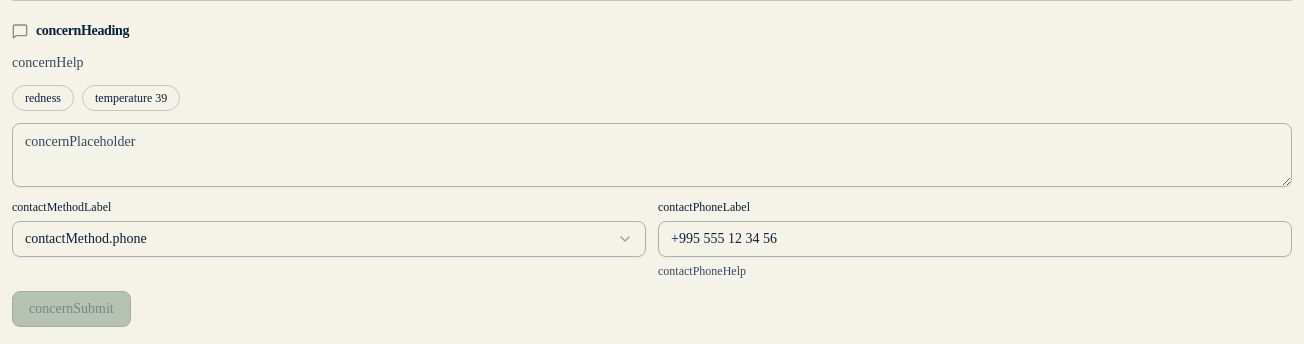
ConcernReportSection › lets a tapped sign be untapped
Click the button "redness": [43, 98] box x1=12 y1=85 x2=74 y2=111
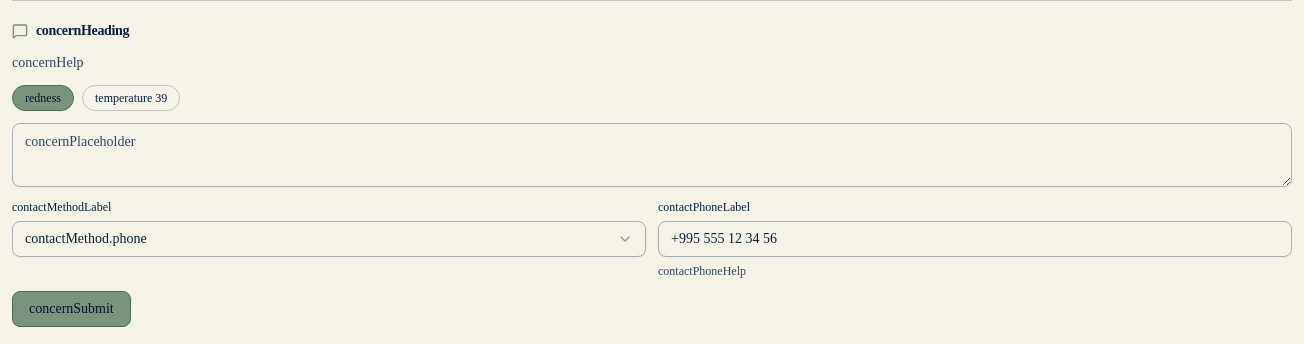
Check: the button "redness" is pressed
Click the button "redness": [43, 98] box x1=12 y1=85 x2=74 y2=111
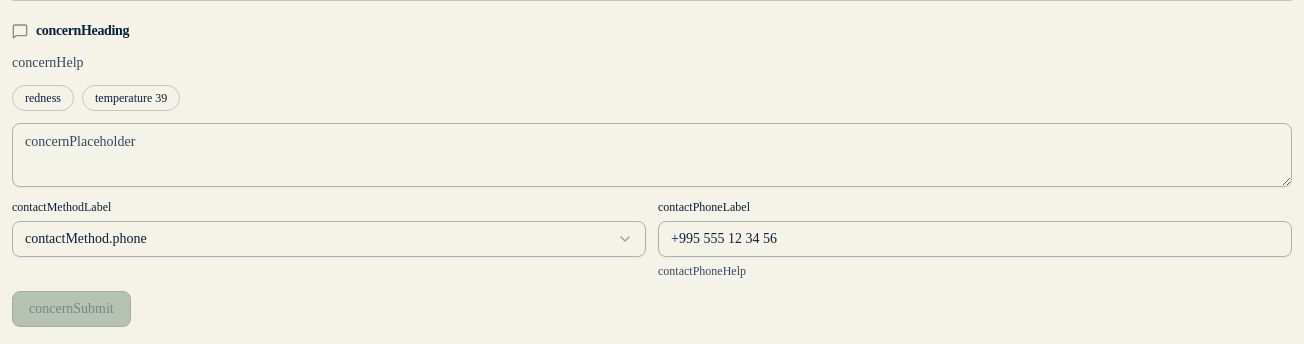
Check: the button "concernSubmit" is disabled, box x1=12 y1=291 x2=131 y2=327
